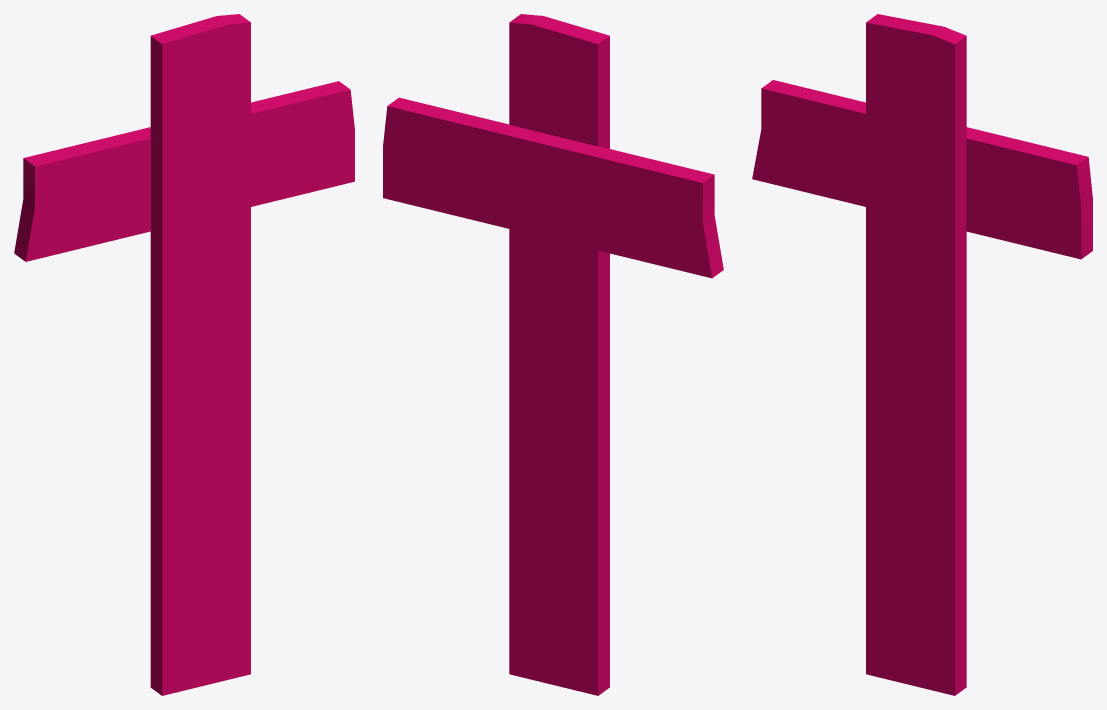
The model's file is Grave_Cross_01_Lod0.fbx.
The picture shows the model from 3 angles, left to right: view 1: azimuth 30°, elevation 25°; view 2: azimuth 150°, elevation 25°; view 3: azimuth 330°, elevation 25°; orthographic projection.
Visible parts, largest first — view 1: Grave_Cross_01_Lod0; view 2: Grave_Cross_01_Lod0; view 3: Grave_Cross_01_Lod0.
Part boxes in pixels (x1,y1,x2,y2): Grave_Cross_01_Lod0: (14,14,354,695); Grave_Cross_01_Lod0: (383,14,723,695); Grave_Cross_01_Lod0: (752,14,1092,695).
Bounding box in the file's own units: 61.74 × 117 × 7.44.
